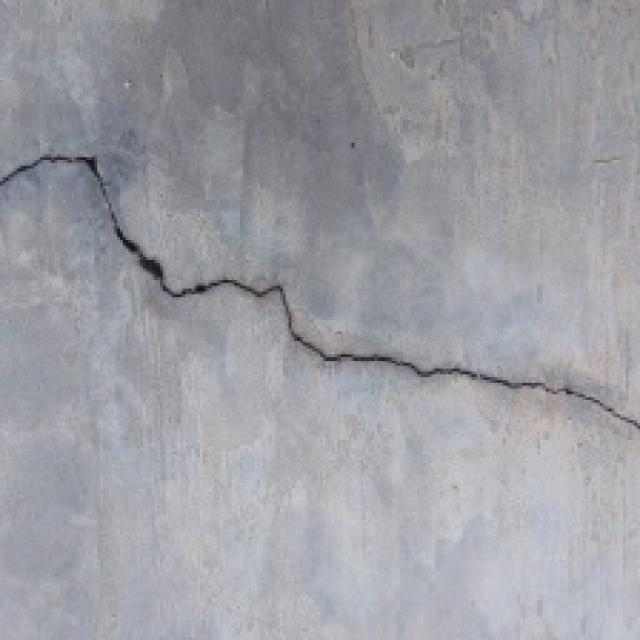crack: (0, 124, 640, 478)
